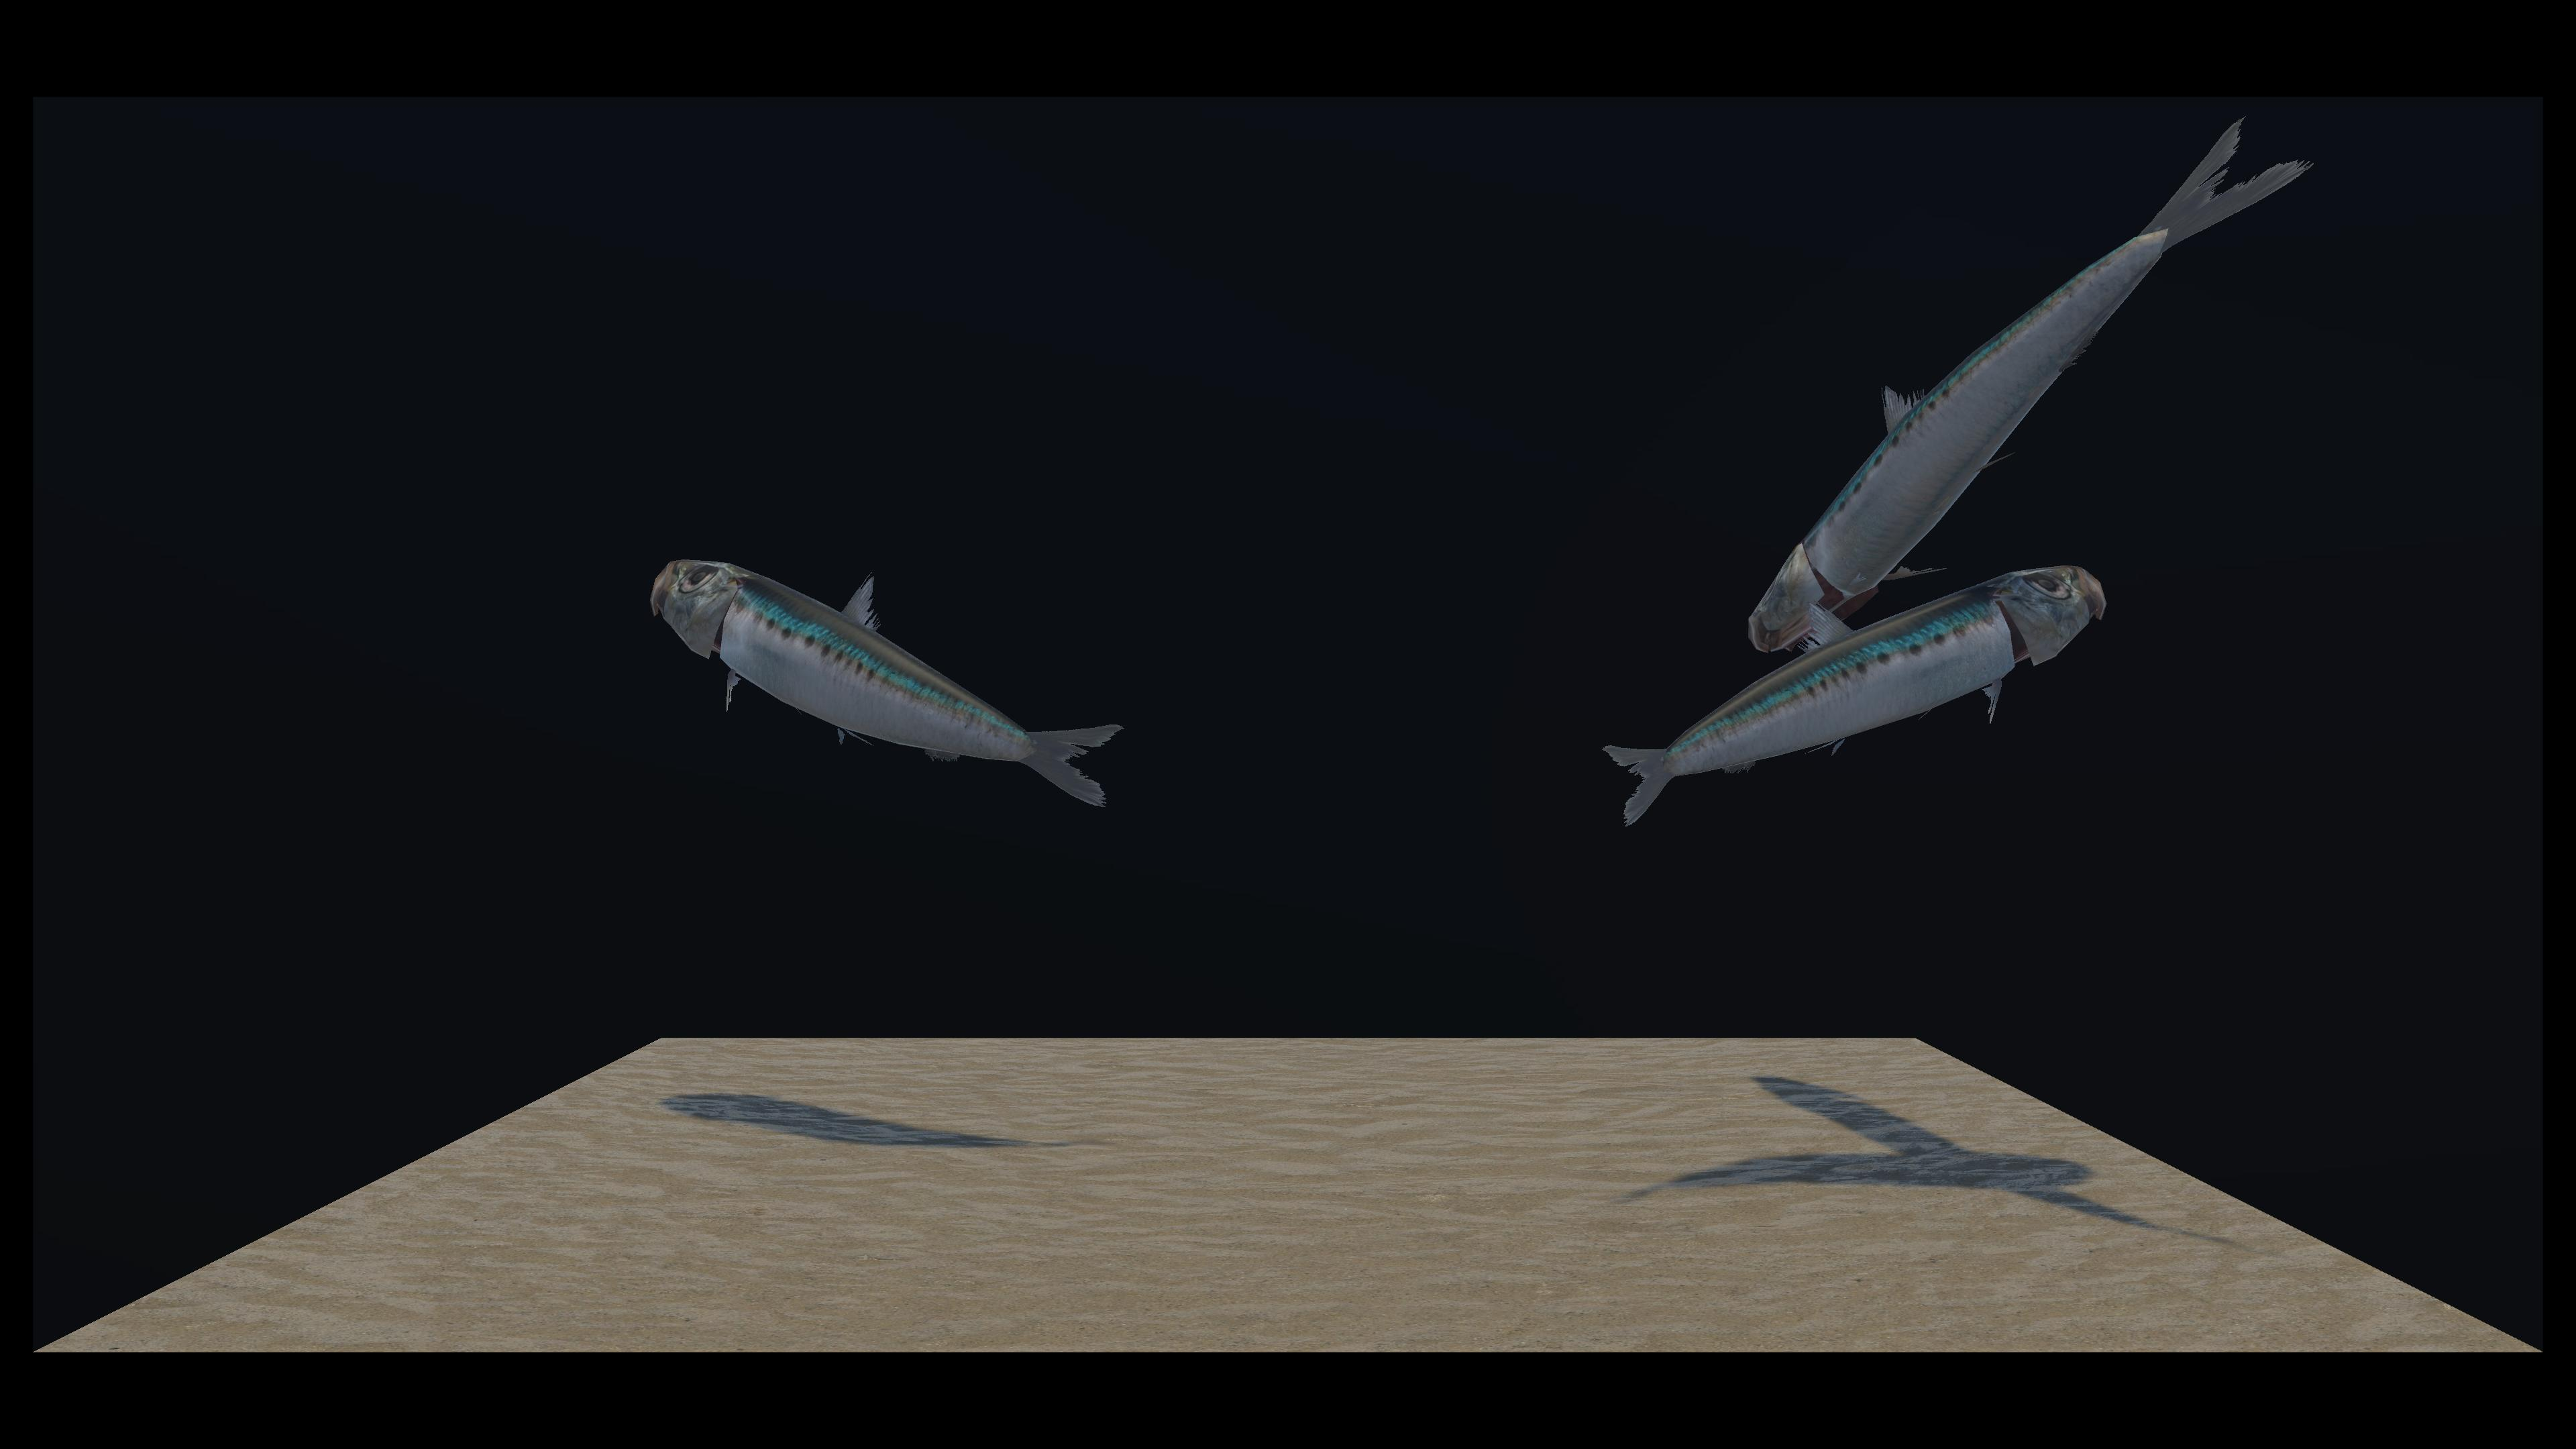Sardine_Front: (846, 126, 2295, 708), (761, 474, 2065, 826), (683, 541, 1115, 805)
